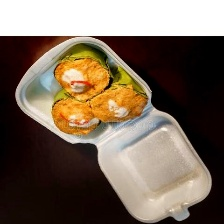foam_box: (11, 35, 216, 224)
